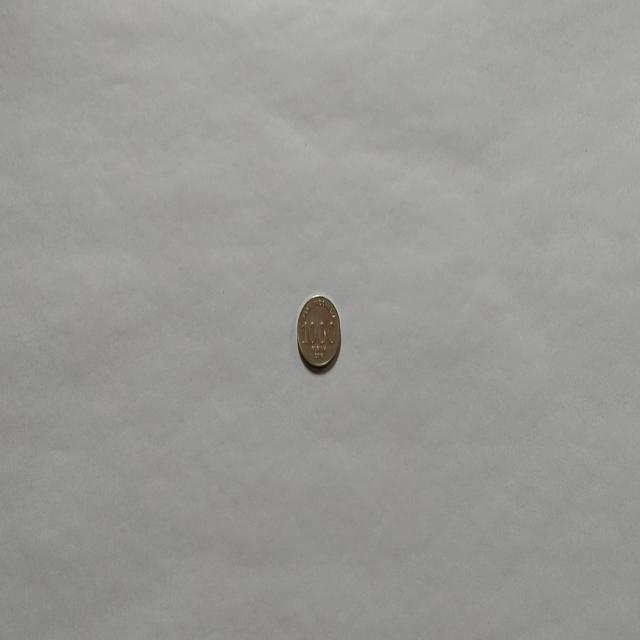seribu rupiah koin: (296, 294, 342, 372)
